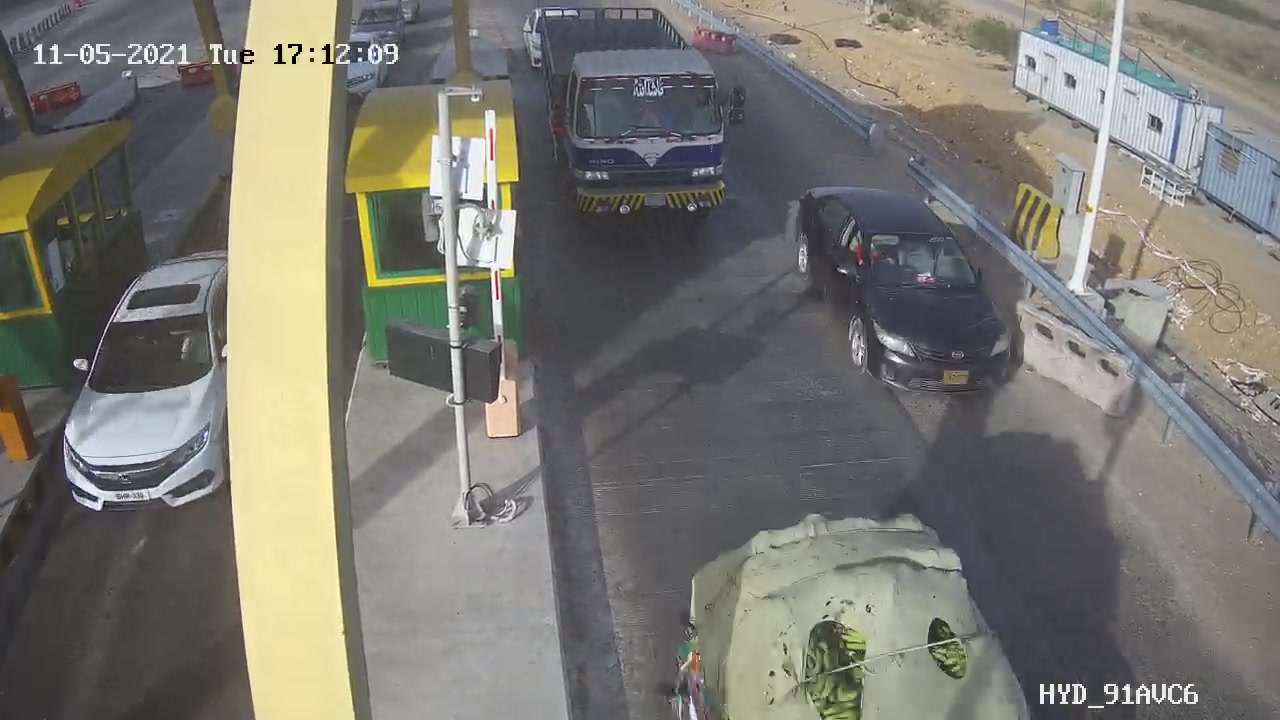F1: (779, 172, 1030, 413)
F5: (518, 8, 741, 232)
